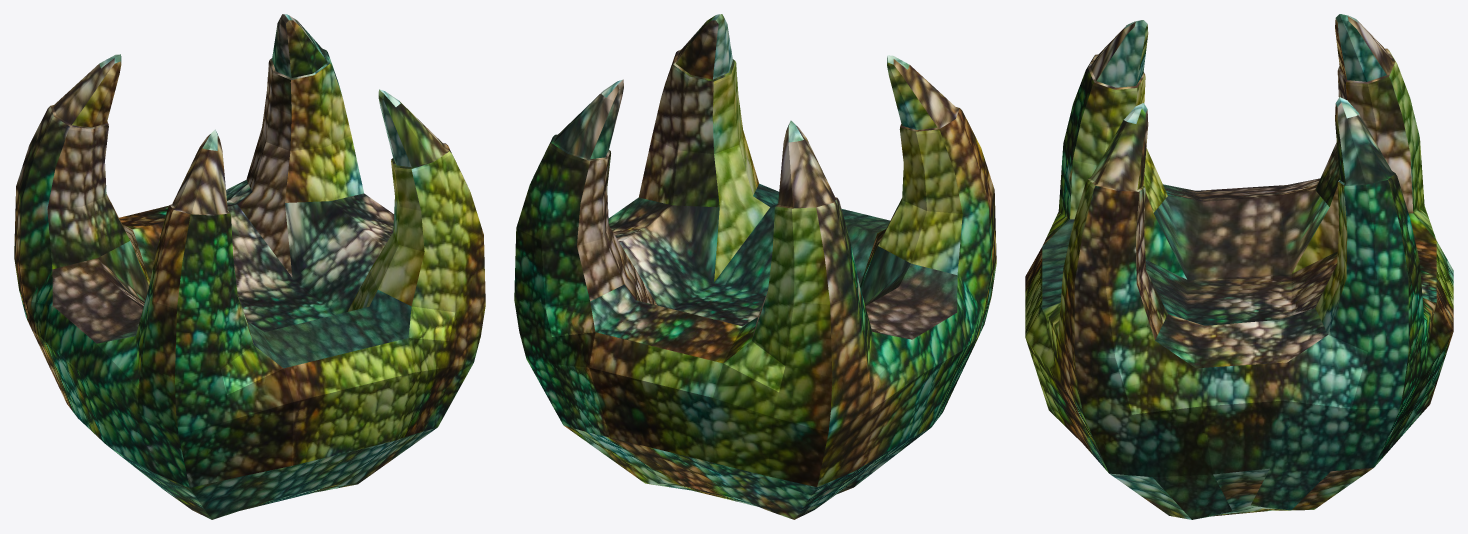
Rendered from monster_plant_bud.fbx.
The picture shows the model from 3 angles, left to right: view 1: azimuth 30°, elevation 25°; view 2: azimuth 150°, elevation 25°; view 3: azimuth 270°, elevation 25°; orthographic projection. The views are drawn at different scales.
Visible parts, largest first — view 1: monster_plant_1:Layer5; view 2: monster_plant_1:Layer5; view 3: monster_plant_1:Layer5.
Boxes of the visible parts, x1,y1,x2,y2 form: monster_plant_1:Layer5: [14, 14, 485, 519]; monster_plant_1:Layer5: [514, 14, 996, 519]; monster_plant_1:Layer5: [1025, 14, 1453, 519].
Bounding box in the file's own units: 339 × 369 × 330.
1 material, 1 textured.
